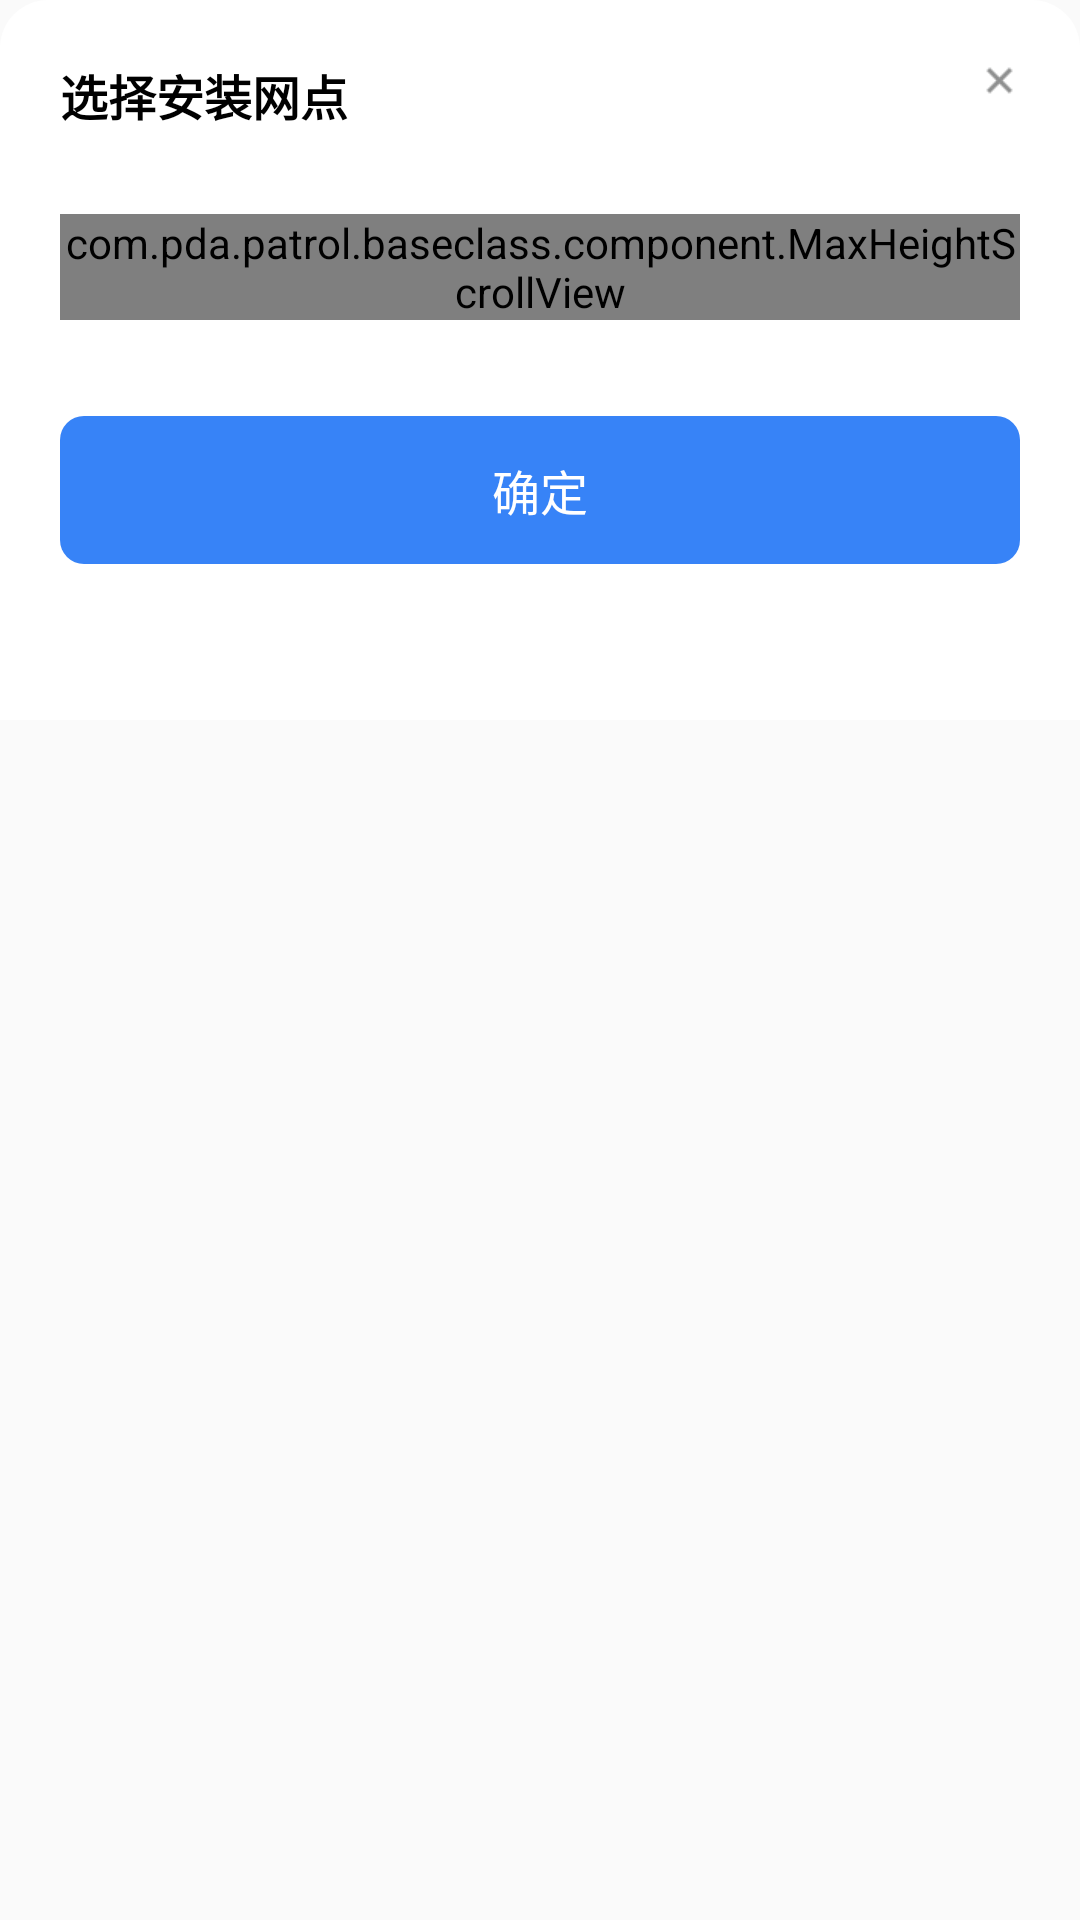

Icon click points for this 1080 × 1920 phone screenshot, format [x,y]:
close: [999,80]
